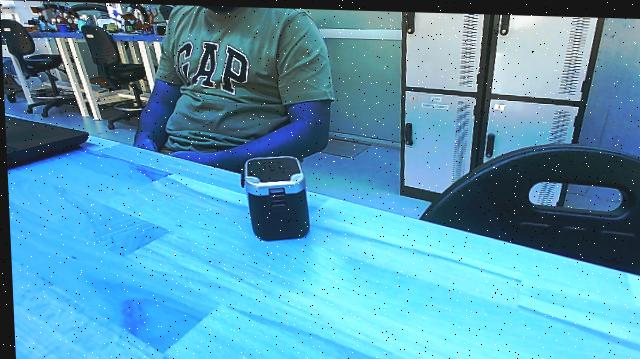adapter: (235, 152, 314, 242)
